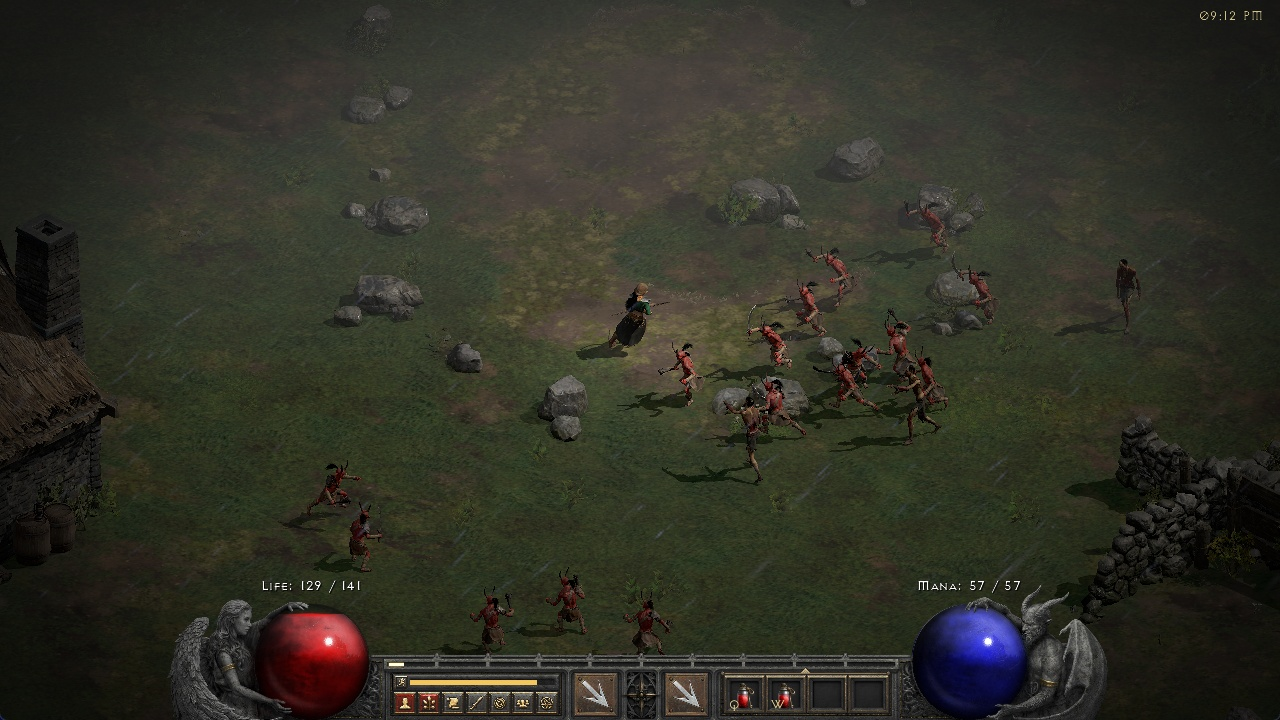fallen: (463, 589, 527, 653), (949, 258, 1009, 324), (804, 244, 861, 304), (659, 342, 712, 403), (901, 201, 962, 250), (622, 594, 673, 652), (350, 510, 396, 574), (548, 574, 595, 632), (825, 364, 877, 416), (746, 316, 795, 370), (790, 286, 837, 342), (757, 375, 802, 433), (313, 462, 362, 511), (915, 361, 955, 406), (881, 312, 916, 360), (851, 341, 883, 379)
